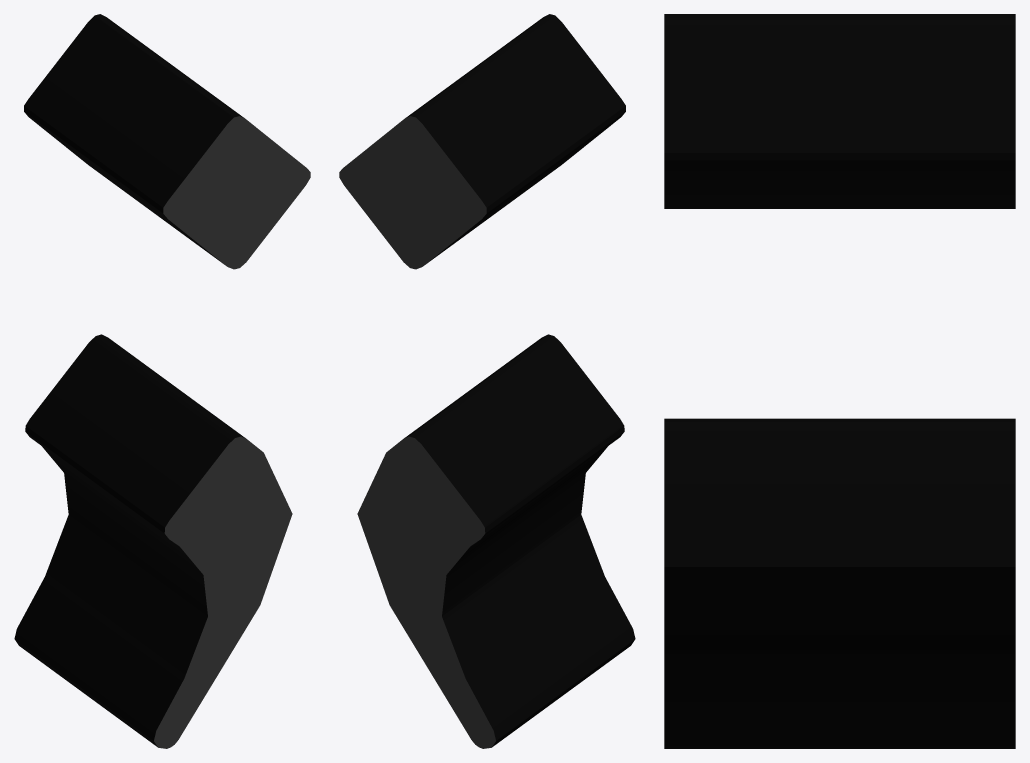
File: a6c3e057-bdea-470d-b41b-f8b6e4a0053a.glb
3 views of the same model, side by side, from view 1: azimuth 30°, elevation 25°; view 2: azimuth 150°, elevation 25°; view 3: azimuth 270°, elevation 25° (orthographic). The views are drawn at different scales.
Visible parts, largest first — view 1: ;_Soul_Black; view 2: ;_Soul_Black; view 3: ;_Soul_Black.
Part boxes in pixels (x1,y1,x2,y2): ;_Soul_Black: [14, 14, 310, 748]; ;_Soul_Black: [339, 14, 635, 748]; ;_Soul_Black: [664, 14, 1015, 748].
Size of what is drawn, in the model's own units: 0.0292 by 0.1095 by 0.045.
Materials: 2 (2 with a texture image).
